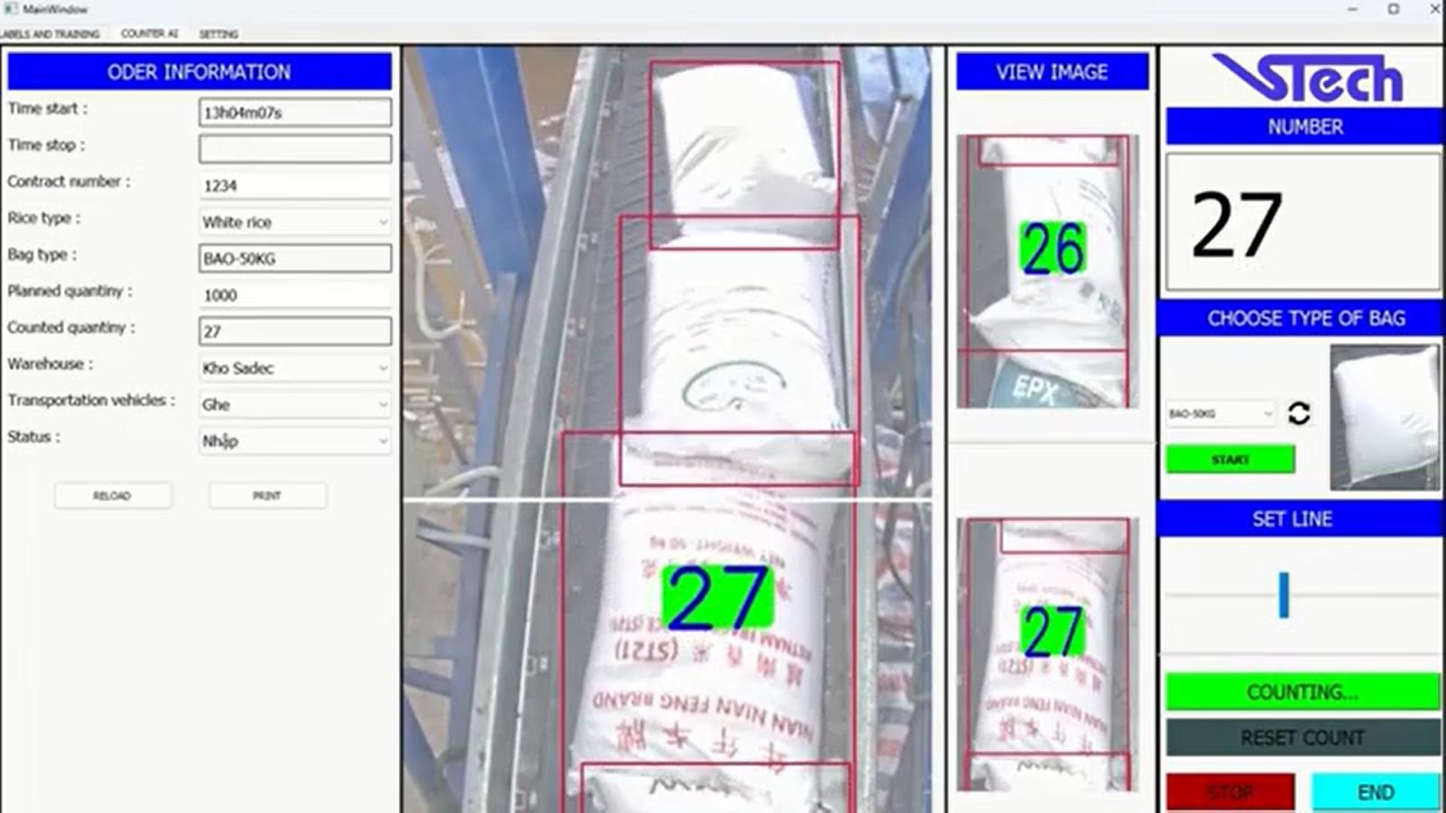rice-bag: (570, 490, 834, 808), (627, 220, 852, 482), (971, 522, 1124, 790), (972, 168, 1127, 406), (654, 64, 836, 244)
